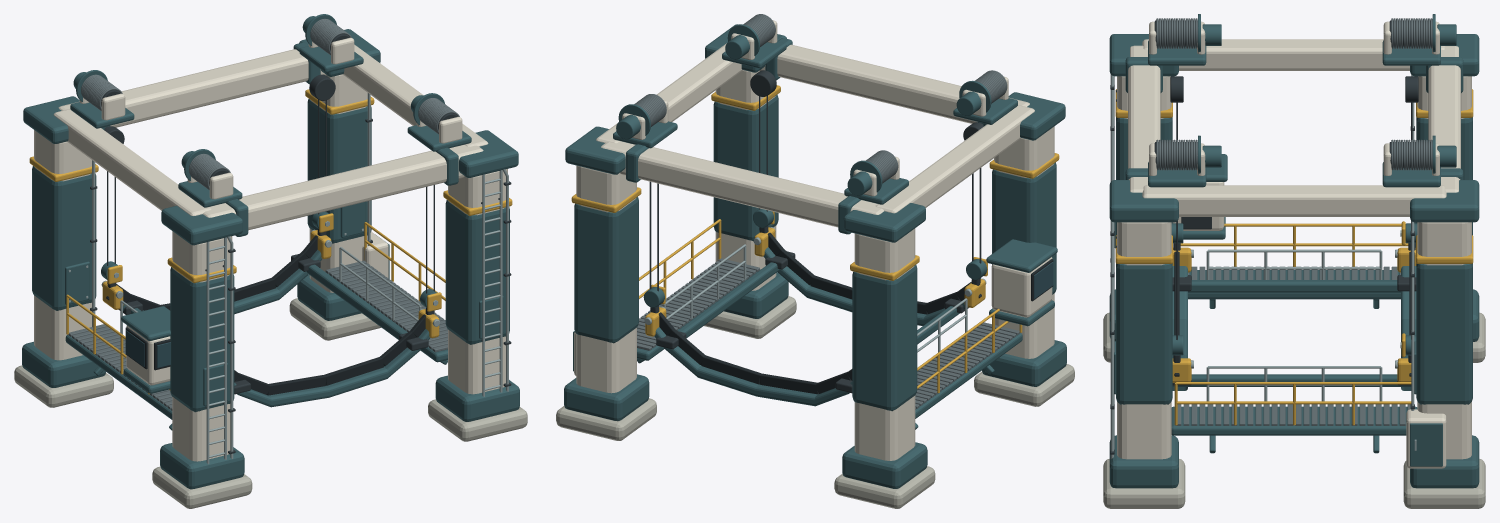
The model's file is docking_lift_platform.glb.
The picture shows the model from 3 angles, left to right: view 1: azimuth 30°, elevation 25°; view 2: azimuth 150°, elevation 25°; view 3: azimuth 270°, elevation 25°; orthographic projection. The views are drawn at different scales.
Visible parts, largest first — view 1: Gantry.CrossBeam_-3.3, Tower_-3.8_3.3.TealSleeve, Gantry.CrossBeam_3.3, Tower_-3.8_-3.3.TealSleeve, Tower_3.8_-3.3.TealSleeve, Gantry.LongitudinalBeam_-3.8, Tower_3.8_3.3.TealSleeve, Tower_-3.8_-3.3.MainColumn, Tower_3.8_-3.3.MainColumn, Tower_-3.8_3.3.MainColumn, Gantry.LongitudinalBeam_3.8, Tower_-3.8_-3.3.FootHousing (+37 smaller); view 2: Tower_-3.8_3.3.TealSleeve, Tower_3.8_3.3.TealSleeve, Gantry.CrossBeam_3.3, Gantry.CrossBeam_-3.3, Tower_3.8_-3.3.TealSleeve, Tower_-3.8_3.3.MainColumn, Tower_3.8_3.3.MainColumn, Tower_-3.8_-3.3.TealSleeve, Gantry.LongitudinalBeam_-3.8, Tower_-3.8_-3.3.MainColumn, Gantry.LongitudinalBeam_3.8, Tower_-3.8_3.3.FootHousing (+23 smaller); view 3: Gantry.LongitudinalBeam_3.8, Tower_3.8_-3.3.TealSleeve, Tower_3.8_3.3.TealSleeve, Gantry.LongitudinalBeam_-3.8, Tower_3.8_-3.3.MainColumn, Walkway_1.Frame, Tower_3.8_3.3.MainColumn, Gantry.CrossBeam_-3.3, Gantry.CrossBeam_3.3, Cradle.LongitudinalTie_-2.45, Walkway_-1.Frame, Tower_3.8_-3.3.FootHousing (+37 smaller).
Boxes of the visible parts, box(x1,y1,x2,y2) form: Gantry.CrossBeam_-3.3: box(203, 144, 483, 230); Tower_-3.8_3.3.TealSleeve: box(32, 166, 96, 310); Gantry.CrossBeam_3.3: box(58, 49, 325, 127); Tower_-3.8_-3.3.TealSleeve: box(170, 267, 234, 412); Tower_3.8_-3.3.TealSleeve: box(445, 200, 509, 344); Gantry.LongitudinalBeam_-3.8: box(53, 109, 211, 215); Tower_3.8_3.3.TealSleeve: box(307, 99, 371, 243); Tower_-3.8_-3.3.MainColumn: box(172, 231, 232, 461); Tower_3.8_-3.3.MainColumn: box(448, 169, 507, 394); Tower_-3.8_3.3.MainColumn: box(34, 130, 91, 360); Gantry.LongitudinalBeam_3.8: box(343, 44, 488, 146); Tower_-3.8_-3.3.FootHousing: box(160, 443, 244, 489); Tower_-3.8_3.3.TealSleeve: box(852, 265, 917, 411); Tower_3.8_3.3.TealSleeve: box(574, 197, 638, 343); Gantry.CrossBeam_3.3: box(601, 141, 883, 227); Gantry.CrossBeam_-3.3: box(759, 44, 1029, 123); Tower_3.8_-3.3.TealSleeve: box(713, 94, 778, 241); Tower_-3.8_3.3.MainColumn: box(854, 228, 915, 460); Tower_3.8_3.3.MainColumn: box(576, 165, 636, 393); Tower_-3.8_-3.3.TealSleeve: box(992, 162, 1056, 294); Gantry.LongitudinalBeam_-3.8: box(875, 105, 1034, 213); Tower_-3.8_-3.3.MainColumn: box(994, 126, 1054, 358); Gantry.LongitudinalBeam_3.8: box(596, 43, 742, 143); Tower_-3.8_3.3.FootHousing: box(842, 442, 927, 488); Gantry.LongitudinalBeam_3.8: box(1142, 185, 1446, 216); Tower_3.8_-3.3.TealSleeve: box(1116, 263, 1172, 404); Tower_3.8_3.3.TealSleeve: box(1416, 263, 1472, 404); Gantry.LongitudinalBeam_-3.8: box(1142, 39, 1445, 70); Tower_3.8_-3.3.MainColumn: box(1117, 222, 1171, 459); Walkway_1.Frame: box(1171, 406, 1417, 435); Tower_3.8_3.3.MainColumn: box(1417, 222, 1471, 459); Gantry.CrossBeam_-3.3: box(1128, 45, 1160, 192); Gantry.CrossBeam_3.3: box(1428, 46, 1460, 192); Cradle.LongitudinalTie_-2.45: box(1188, 280, 1400, 292); Walkway_-1.Frame: box(1188, 270, 1400, 299); Tower_3.8_-3.3.FootHousing: box(1109, 435, 1178, 488).
Size of the model in its own units: 9.79 by 8.34 by 8.4.
